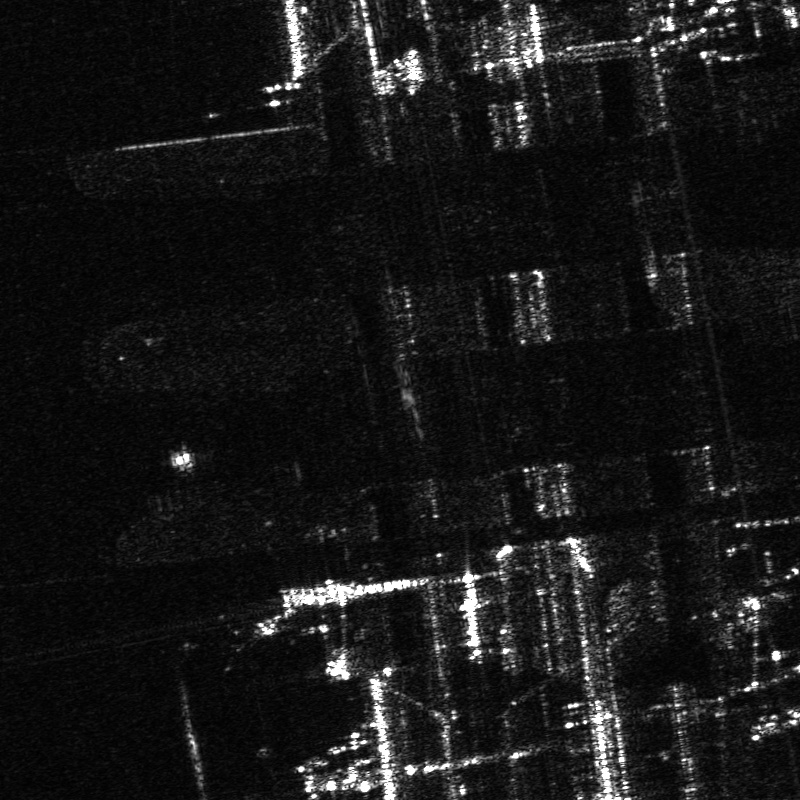Boeing737: (752, 550, 799, 606)
